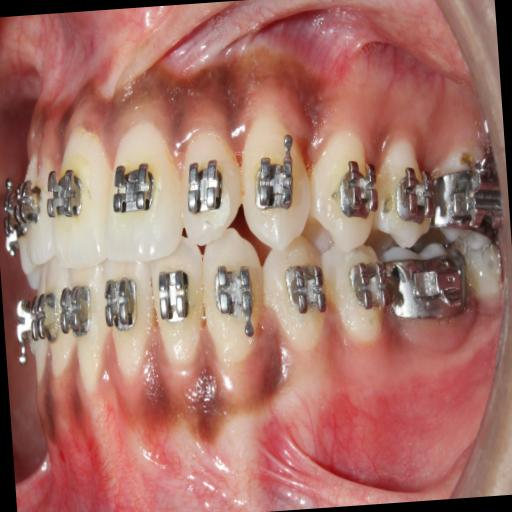correct_brace: (307, 128, 383, 249), (111, 151, 162, 228), (250, 156, 300, 213), (41, 158, 85, 220), (188, 160, 228, 216)
incorrect_brace: (180, 132, 248, 244), (338, 160, 378, 216)
